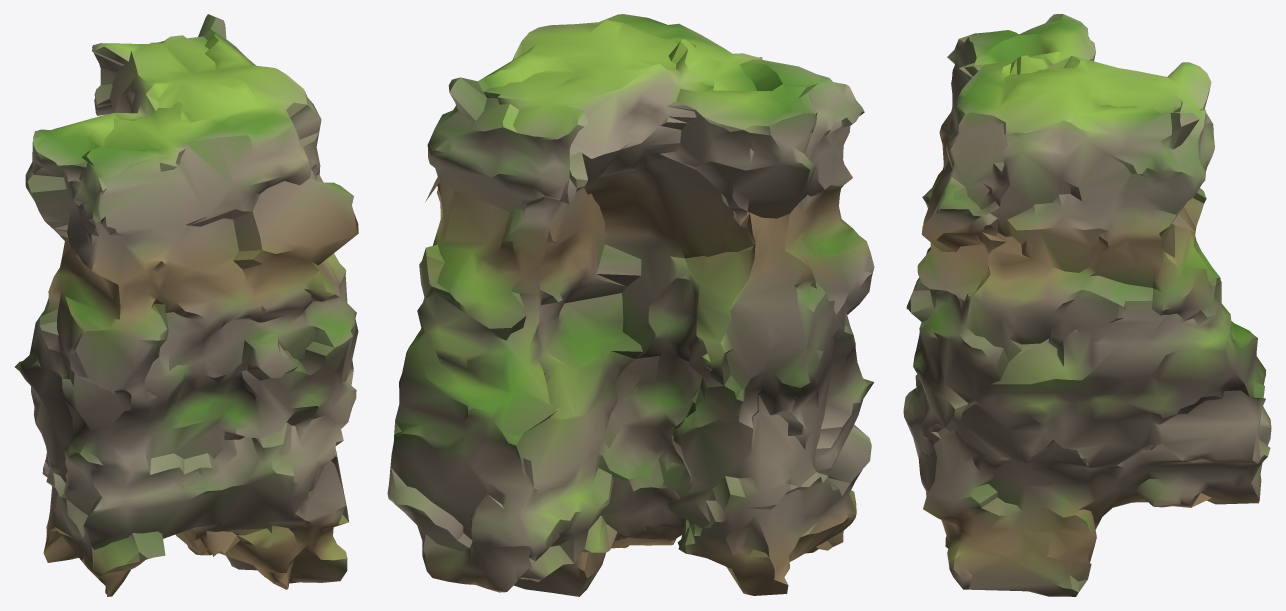
Rendered from glade_cliff_corner.glb.
The picture shows the model from 3 angles, left to right: view 1: azimuth 30°, elevation 25°; view 2: azimuth 150°, elevation 25°; view 3: azimuth 270°, elevation 25°; orthographic projection. The views are drawn at different scales.
Parts seen in each view (by area): view 1: glade_cliff_corner; view 2: glade_cliff_corner; view 3: glade_cliff_corner.
Boxes of the visible parts, x1,y1,x2,y2 form: glade_cliff_corner: (15, 14, 358, 596); glade_cliff_corner: (387, 14, 874, 596); glade_cliff_corner: (903, 14, 1271, 596).
Size of the model in its own units: 10.81 by 16.86 by 11.62.
